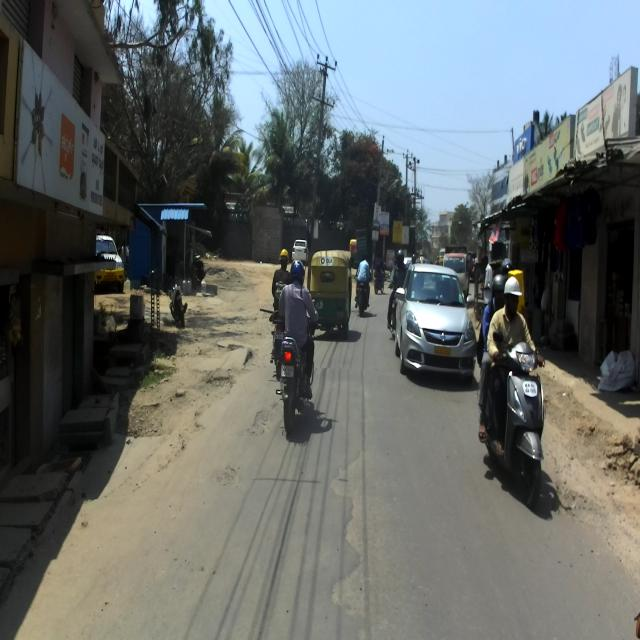car ahead at: (387, 252, 477, 384)
motorcycle ahead at: (485, 339, 558, 514), (272, 335, 314, 436)
